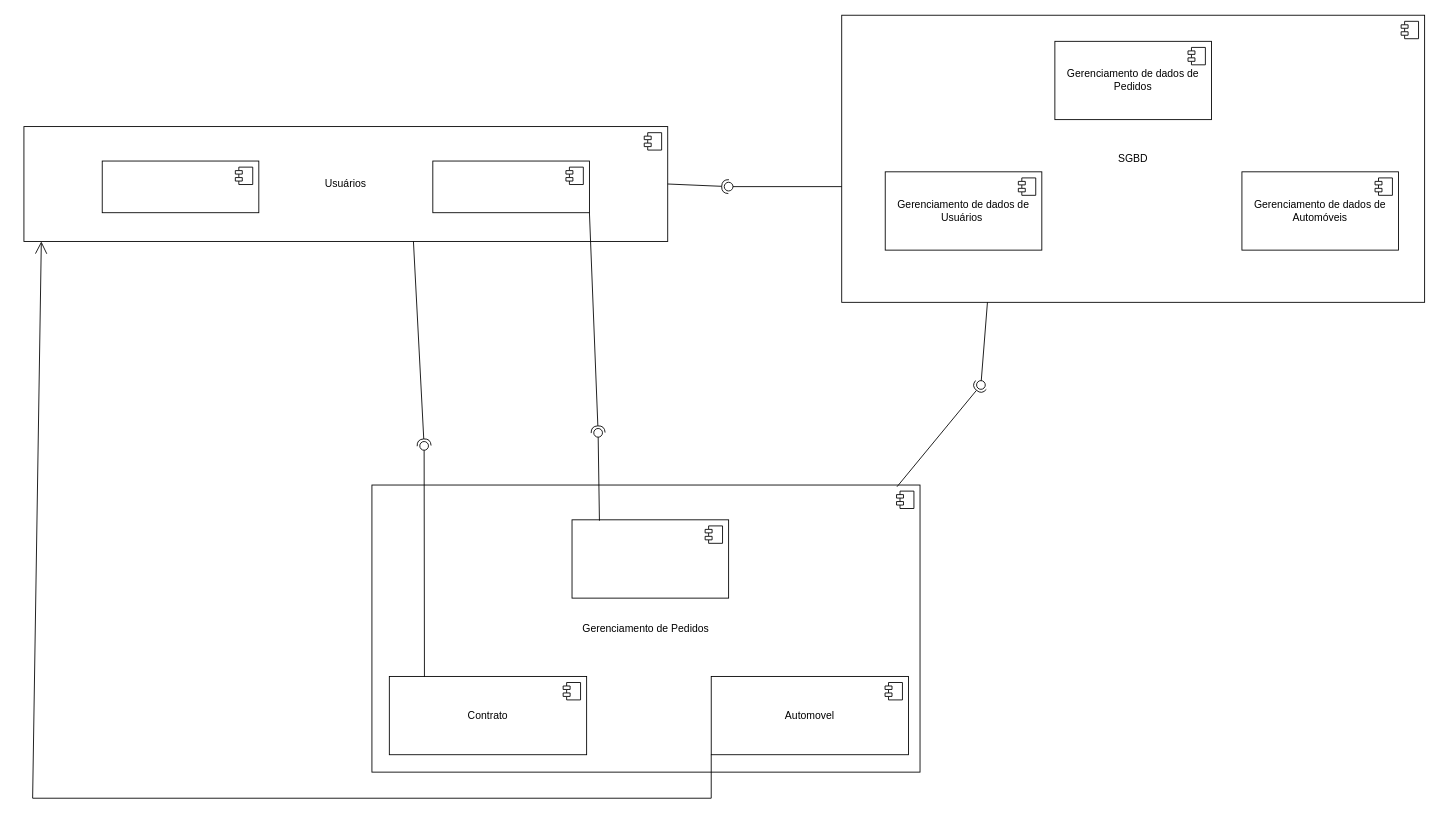
Some shapes in this 1440 by 826 pixel diagram are drawn without their labels. The shapes that lost their labels are listed below. From the top down, each one's centre as x and y in pixels, then its label:
point (180, 186): Agente
point (510, 186): Cliente
point (650, 558): Pedidos
